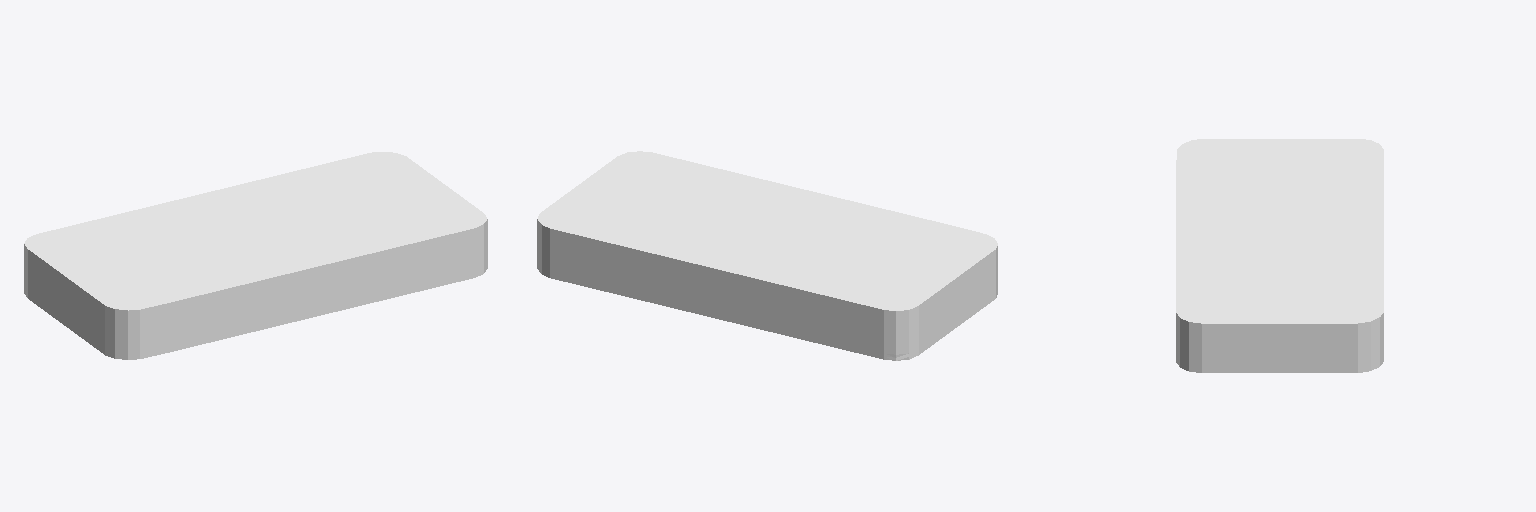
Rendered from Mattress.obj.
3 renders of one model, left to right at view 1: azimuth 30°, elevation 25°; view 2: azimuth 150°, elevation 25°; view 3: azimuth 270°, elevation 25°, orthographic.
Visible parts, largest first — view 1: Mattress; view 2: Mattress; view 3: Mattress.
Boxes of the visible parts, <box> form: Mattress: <box>24,152,487,359</box>; Mattress: <box>537,151,997,360</box>; Mattress: <box>1176,139,1383,372</box>.
Bounding box in the file's own units: 2.65 × 0.3322 × 1.25.